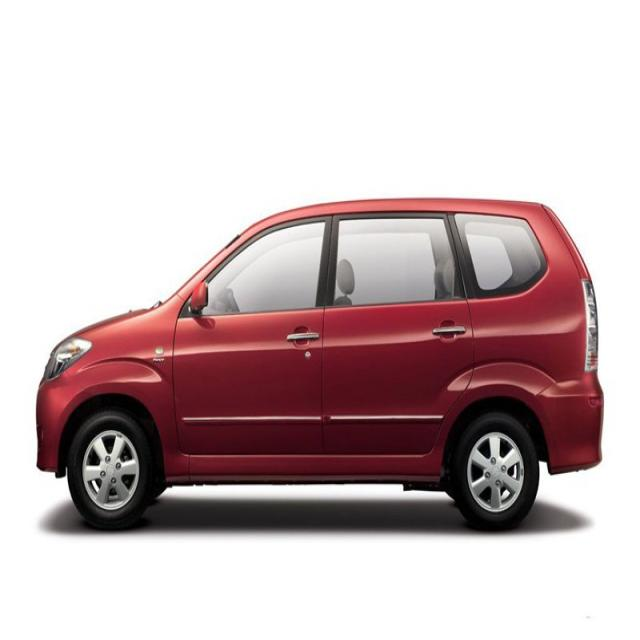back_left_side_light: (582, 275, 600, 375)
door: (332, 212, 479, 472)
front_left_side_door: (172, 207, 334, 458)
front_left_side_light: (39, 335, 94, 385)
front_left_side_mirror: (189, 278, 210, 322)
rear_bumper: (533, 370, 604, 473)
wheel: (67, 410, 150, 527), (456, 412, 538, 527)
